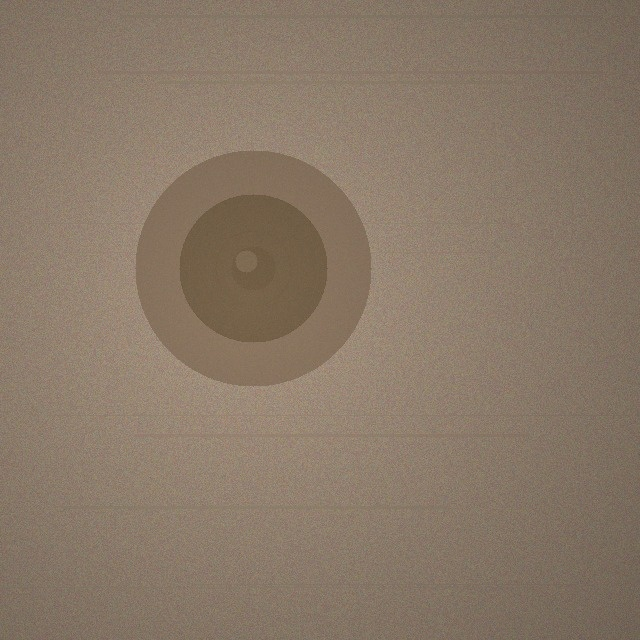good: (135, 150, 371, 386)
